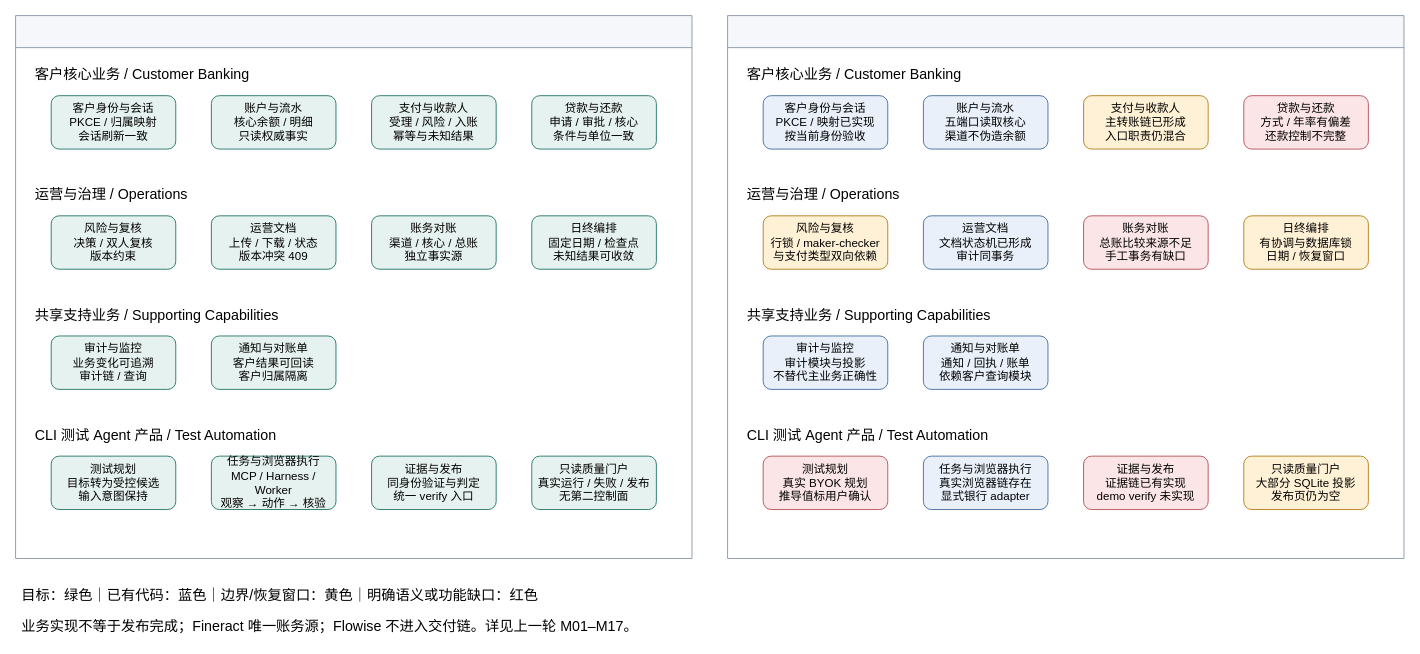
Some shapes in this 1420 by 654 pixel diagram are drawn without their labels. Here are the shapes that lost their labels. From the top down, the box of each, then its label:
(15, 15, 692, 558): TARGET｜文档与约束要求
(727, 15, 1404, 558): AS-IS｜当前代码与业务缺口
